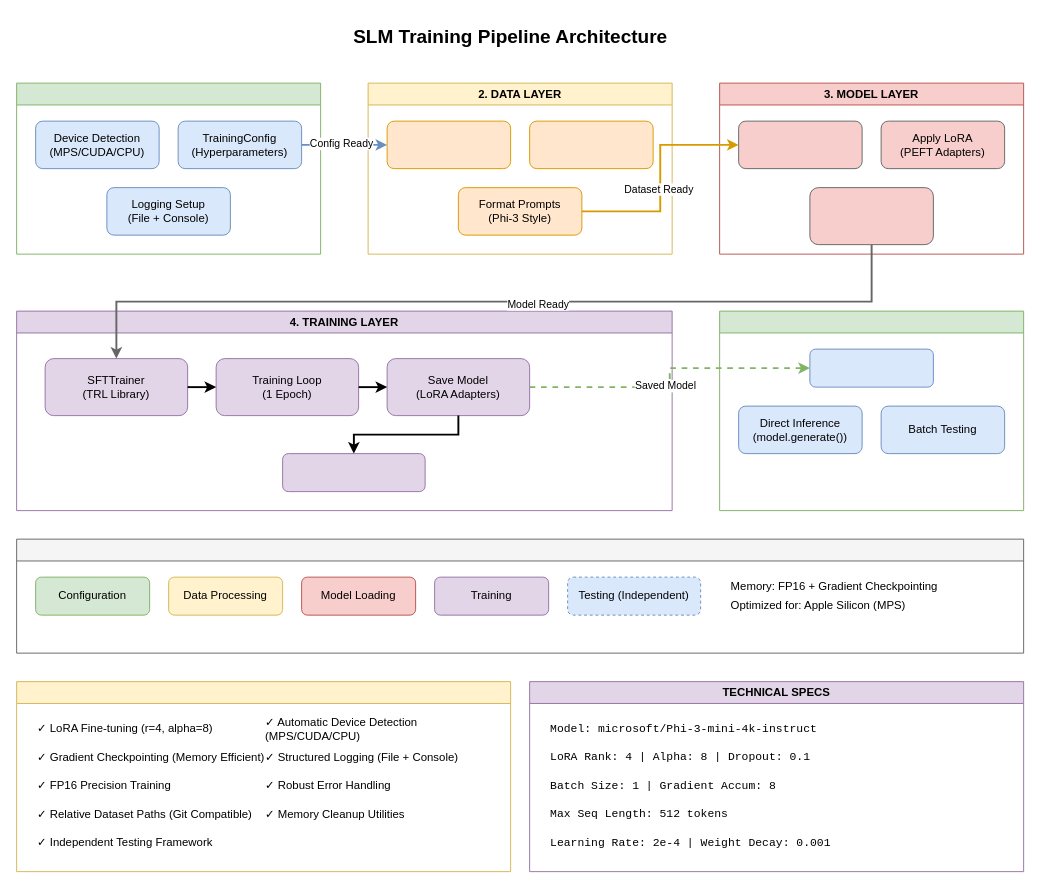
This 1040x888 diagram has some shape labels left out. The box of each missing label's shape, as (x1, y1, x2, y2) in pixels:
1. CONFIGURATION LAYER: (16, 82, 321, 254)
5. TESTING LAYER (test_model.py): (719, 310, 1024, 511)
KEY FEATURES: (16, 681, 511, 872)
LEGEND: (16, 538, 1024, 653)
Load Base Model (Phi-3-mini): (738, 120, 862, 169)
Load Dataset (JSON Local): (386, 120, 511, 169)
Memory Cleanup (Cache Clear): (282, 453, 425, 492)
Memory Optimization (FP16 + Checkpointing): (809, 187, 933, 245)
ModelTester Class: (809, 348, 933, 387)
Validate Fields (instruction/response): (529, 120, 653, 169)
